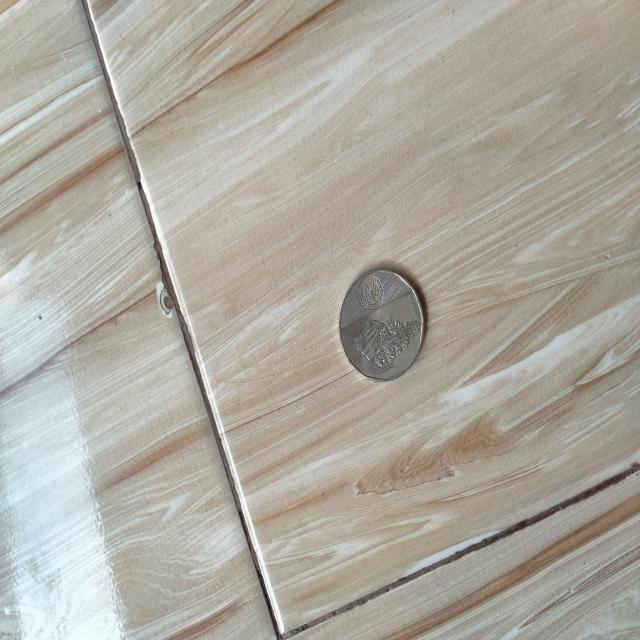10_New_Back: (350, 303, 420, 369)
